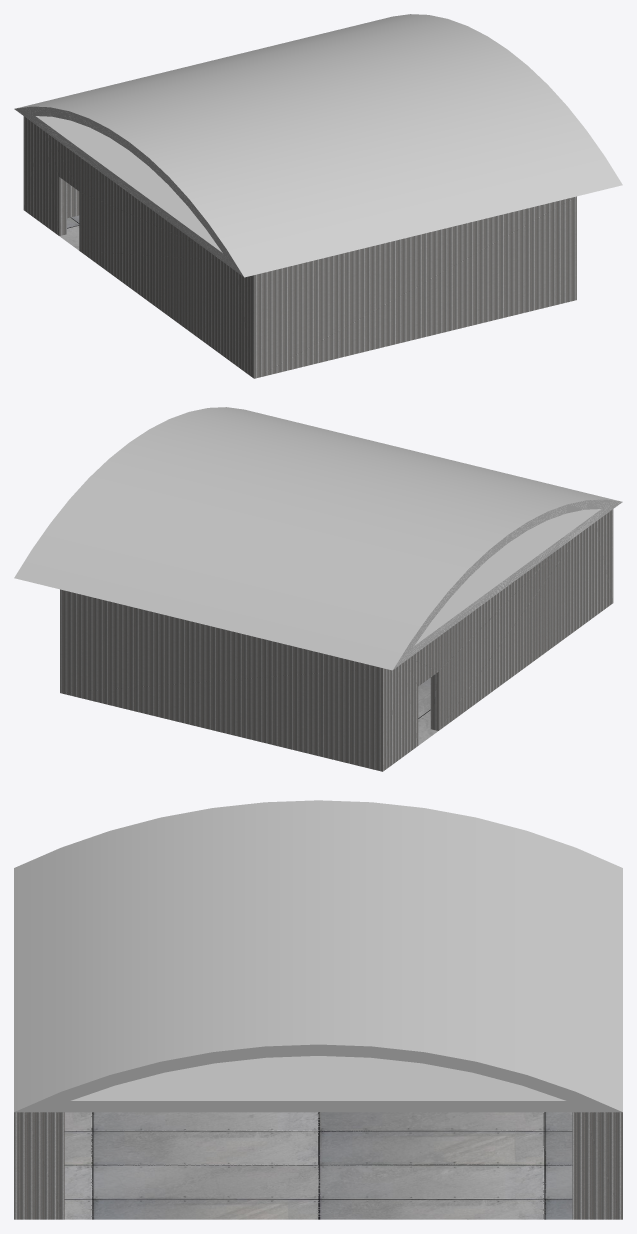
File: Hanger Collada.dae
3 renders of one model, top to bottom at view 1: azimuth 30°, elevation 25°; view 2: azimuth 150°, elevation 25°; view 3: azimuth 270°, elevation 25°, orthographic. The views are drawn at different scales.
Parts seen in each view (by area): view 1: SketchUp (×3); view 2: SketchUp (×4); view 3: SketchUp (×4).
Boxes of the visible parts, box(x1,y1,x2,y2) form: SketchUp (×3): box(14, 14, 622, 378); SketchUp (×4): box(14, 407, 622, 771); SketchUp (×4): box(14, 800, 622, 1219).
Bounding box in the file's own units: 736 × 776 × 288.
